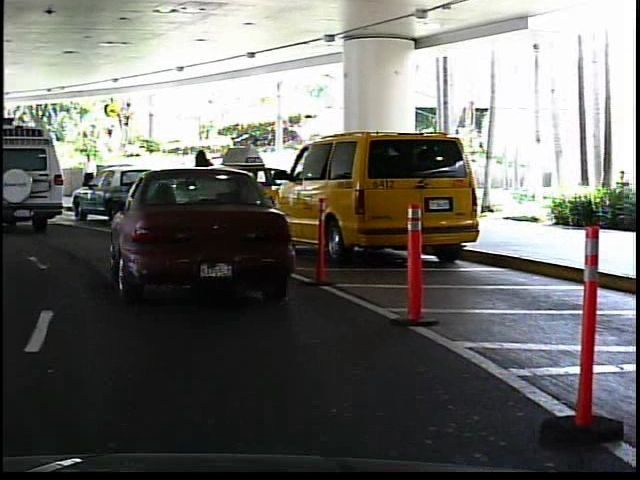person: (191, 144, 223, 210), (227, 141, 254, 209), (79, 148, 102, 201), (14, 157, 33, 196)
